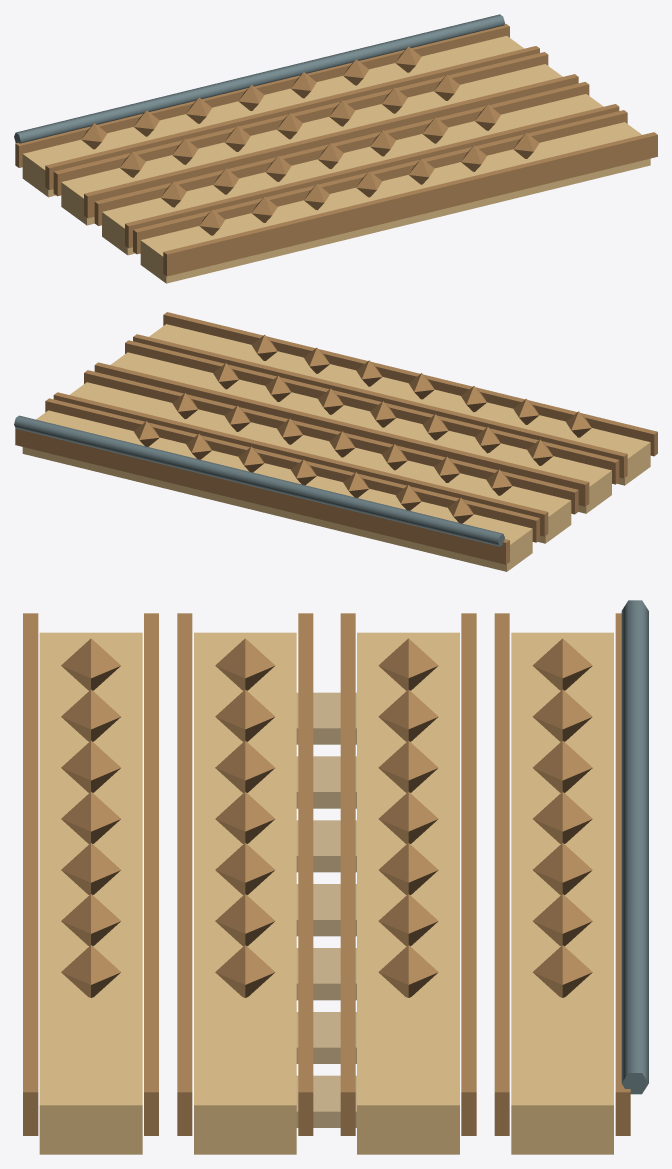
Rendered from herb-garden.source.glb.
3 renders of one model, top to bottom at view 1: azimuth 30°, elevation 25°; view 2: azimuth 150°, elevation 25°; view 3: azimuth 270°, elevation 25°, orthographic. The views are drawn at different scales.
Parts seen in each view (by area): view 1: herb-garden-edge-0.78-0.2-mesh, herb-garden-bed-0.78-mesh, herb-garden-bed--0.78-mesh, herb-garden-bed--0.27-mesh, herb-garden-bed-0.27-mesh, herb-garden-header-mesh, herb-garden-edge--0.27-0.2-mesh, herb-garden-edge--0.27--0.2-mesh, herb-garden-edge-0.27--0.2-mesh, herb-garden-edge-0.78--0.2-mesh, herb-garden-edge--0.78--0.2-mesh, herb-garden-edge--0.78-0.2-mesh (+3 smaller); view 2: herb-garden-bed--0.78-mesh, herb-garden-edge--0.78--0.2-mesh, herb-garden-bed-0.78-mesh, herb-garden-bed--0.27-mesh, herb-garden-bed-0.27-mesh, herb-garden-header-mesh, herb-garden-edge-0.27--0.2-mesh, herb-garden-edge--0.78-0.2-mesh, herb-garden-edge--0.27-0.2-mesh, herb-garden-edge-0.27-0.2-mesh, herb-garden-edge-0.78-0.2-mesh, herb-garden-edge--0.27--0.2-mesh (+29 smaller); view 3: herb-garden-bed-0.78-mesh, herb-garden-bed--0.78-mesh, herb-garden-bed-0.27-mesh, herb-garden-bed--0.27-mesh, herb-garden-header-mesh, herb-garden-edge--0.78-0.2-mesh, herb-garden-edge--0.27--0.2-mesh, herb-garden-edge--0.27-0.2-mesh, herb-garden-edge-0.27--0.2-mesh, herb-garden-edge-0.27-0.2-mesh, herb-garden-edge-0.78-0.2-mesh, herb-garden-edge-0.78--0.2-mesh (+36 smaller).
Boxes of the visible parts, x1,y1,x2,y2 form: herb-garden-edge-0.78-0.2-mesh: (163,132,657,276); herb-garden-bed-0.78-mesh: (140,122,650,283); herb-garden-bed--0.78-mesh: (22,36,523,197); herb-garden-bed--0.27-mesh: (61,64,562,225); herb-garden-bed-0.27-mesh: (102,94,603,255); herb-garden-header-mesh: (14,14,504,143); herb-garden-edge--0.27-0.2-mesh: (84,74,578,218); herb-garden-edge--0.27--0.2-mesh: (53,52,548,196); herb-garden-edge-0.27--0.2-mesh: (94,82,589,225); herb-garden-edge-0.78--0.2-mesh: (133,110,627,254); herb-garden-edge--0.78--0.2-mesh: (15,23,509,167); herb-garden-edge--0.78-0.2-mesh: (45,46,539,190); herb-garden-bed--0.78-mesh: (22,410,532,571); herb-garden-edge--0.78--0.2-mesh: (15,428,509,564); herb-garden-bed-0.78-mesh: (149,324,650,485); herb-garden-bed--0.27-mesh: (70,382,571,543); herb-garden-bed-0.27-mesh: (110,352,611,513); herb-garden-header-mesh: (14,415,504,546); herb-garden-edge-0.27--0.2-mesh: (94,362,589,506); herb-garden-edge--0.78-0.2-mesh: (45,398,539,542); herb-garden-edge--0.27-0.2-mesh: (84,370,578,514); herb-garden-edge-0.27-0.2-mesh: (125,340,619,484); herb-garden-edge-0.78-0.2-mesh: (163,312,657,456); herb-garden-edge--0.27--0.2-mesh: (53,392,548,536); herb-garden-bed-0.78-mesh: (39,632,142,1154); herb-garden-bed--0.78-mesh: (511,632,613,1154); herb-garden-bed-0.27-mesh: (194,632,296,1154); herb-garden-bed--0.27-mesh: (357,632,459,1154); herb-garden-header-mesh: (621,600,648,1094); herb-garden-edge--0.78-0.2-mesh: (494,613,509,1135); herb-garden-edge--0.27--0.2-mesh: (461,613,476,1135); herb-garden-edge--0.27-0.2-mesh: (340,613,355,1135); herb-garden-edge-0.27--0.2-mesh: (298,613,313,1135); herb-garden-edge-0.27-0.2-mesh: (177,613,192,1135); herb-garden-edge-0.78-0.2-mesh: (23,613,38,1135); herb-garden-edge-0.78--0.2-mesh: (144,613,158,1135).
Bounding box in the file's own units: 3.75 × 0.37 × 2.07.
